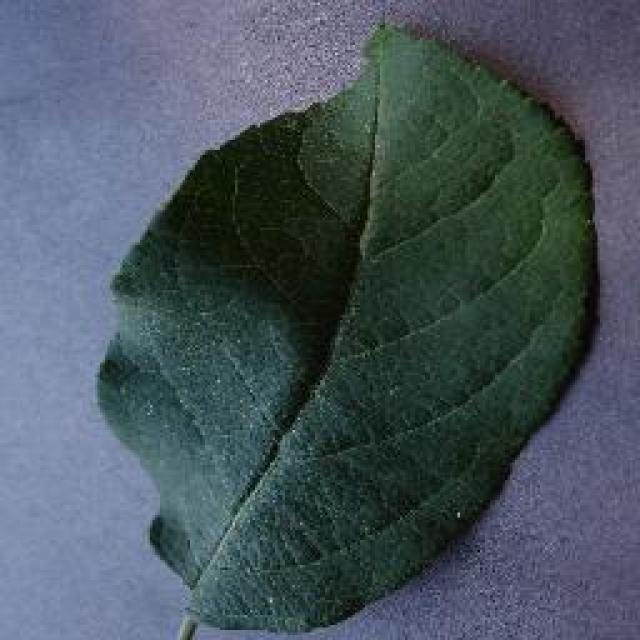apple healthy: (92, 18, 600, 638)
